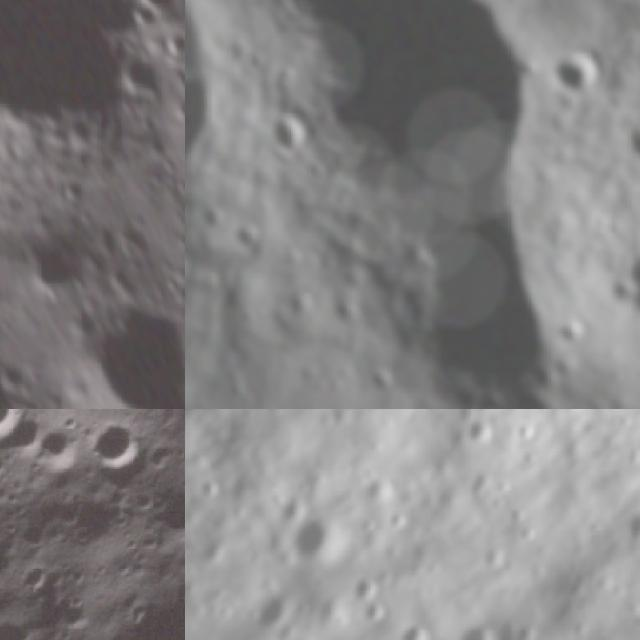crater: (0, 0, 185, 272), (49, 271, 185, 409), (70, 409, 164, 494), (10, 220, 101, 307), (280, 505, 366, 590), (539, 38, 610, 103), (31, 417, 95, 483), (139, 465, 185, 554), (609, 230, 640, 345), (0, 409, 58, 470), (239, 583, 300, 640), (264, 100, 314, 161), (9, 552, 58, 603), (220, 214, 268, 261), (0, 597, 49, 640), (456, 468, 499, 514), (507, 518, 549, 561), (377, 506, 419, 547), (0, 354, 31, 409), (354, 595, 396, 635), (194, 470, 234, 510), (360, 470, 400, 510), (617, 116, 640, 173), (389, 615, 440, 640), (557, 315, 591, 350), (512, 413, 546, 448), (617, 505, 640, 556), (506, 615, 549, 640), (349, 577, 380, 609), (450, 619, 496, 640), (562, 616, 597, 640), (520, 446, 547, 473), (494, 474, 520, 500), (504, 505, 529, 530), (488, 494, 512, 519), (496, 409, 524, 415)
